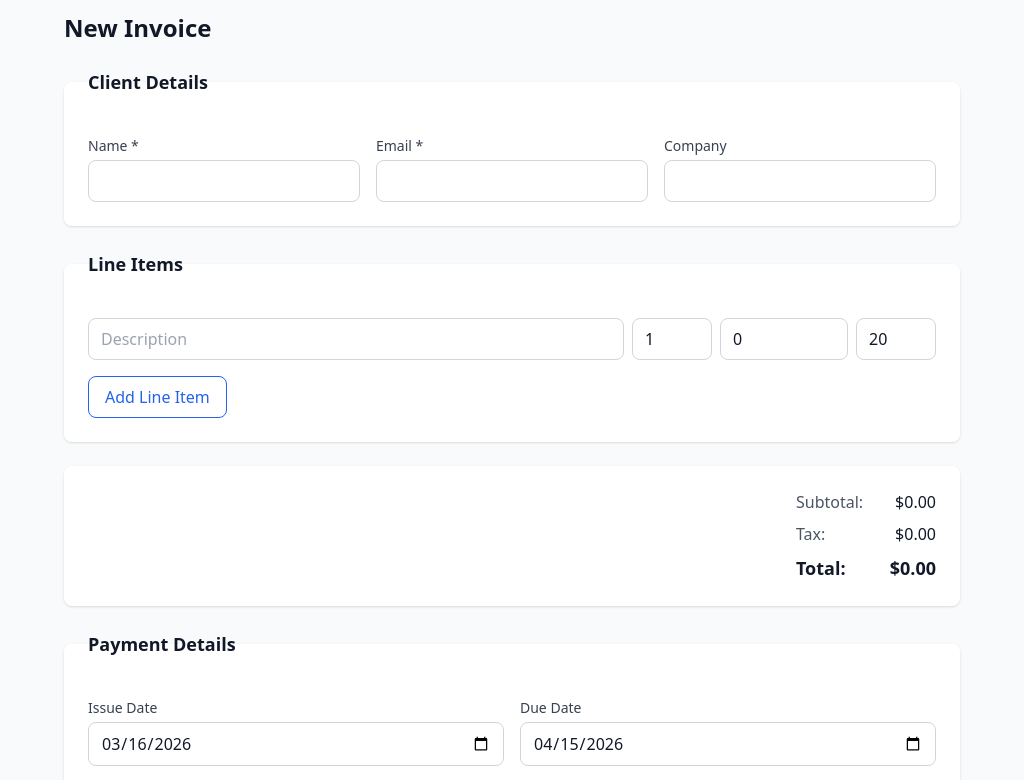
Test: InvoiceForm › can add and remove line items
Click the button "Add Line Item". click: (157, 397)
box: [88,376,227,418]
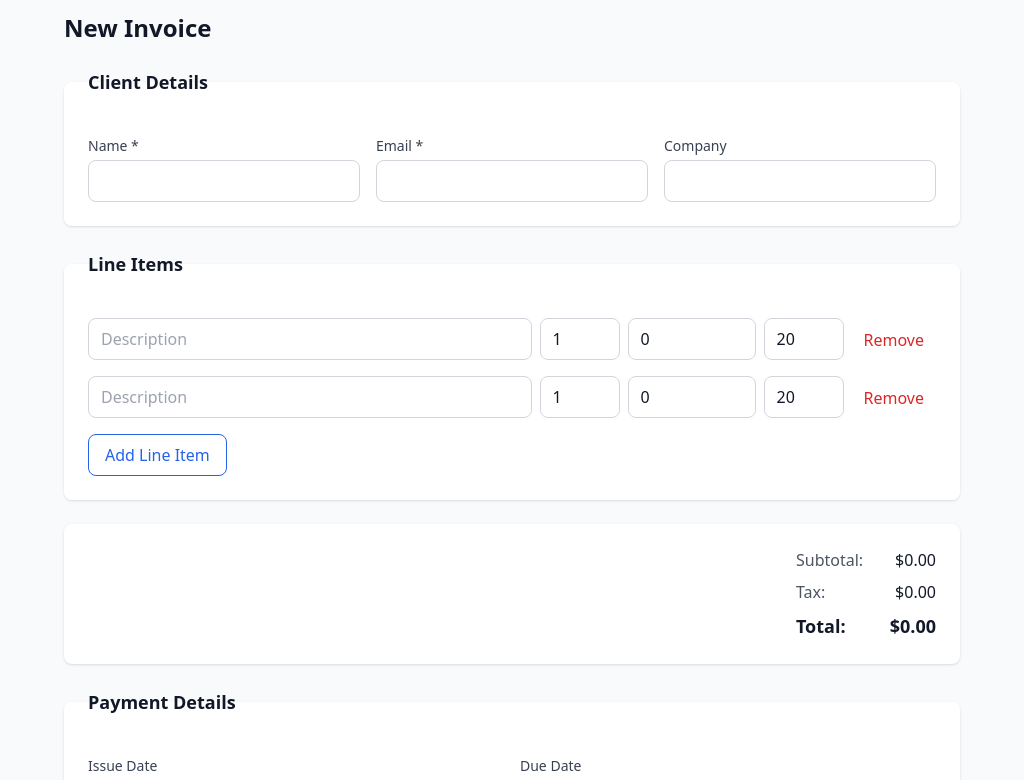
Result: the number of fields with placeholder "Description" is 2 at [88,318,532,360]; [88,376,532,418]
Click the 1st button "Remove". click: (894, 340)
box: [852,320,936,360]
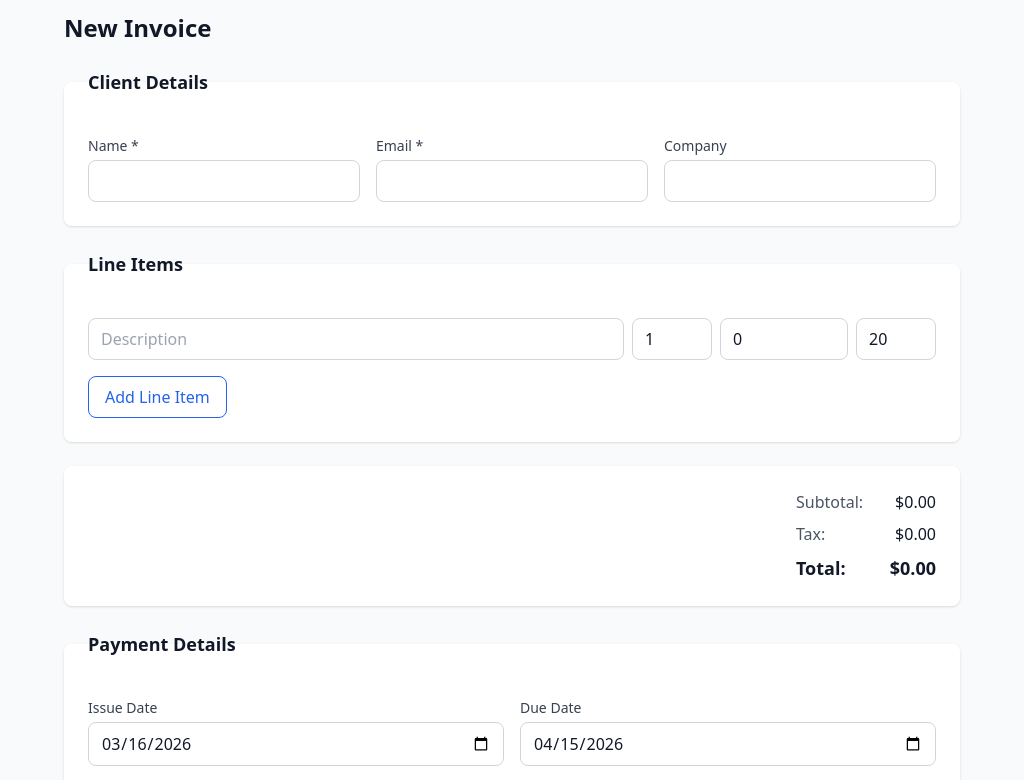
Result: the number of fields with placeholder "Description" is 1 at [88,318,624,360]
